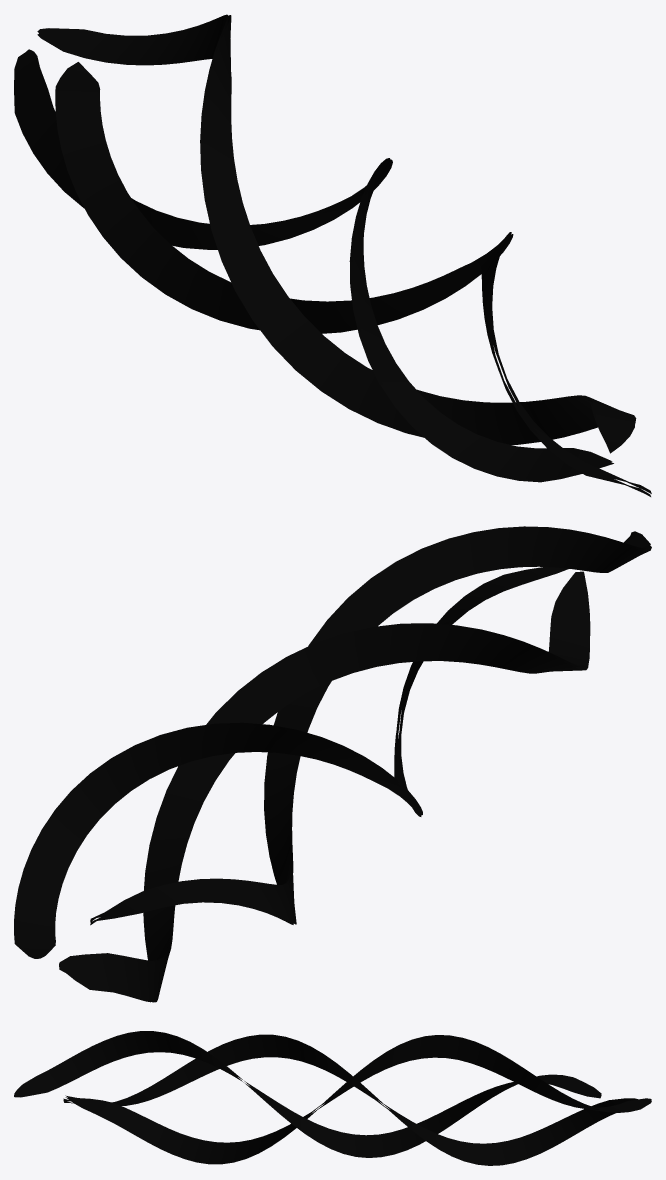
File: VFX_helix.fbx
3 views of the same model, one above another, from view 1: azimuth 30°, elevation 25°; view 2: azimuth 150°, elevation 25°; view 3: azimuth 270°, elevation 25° (orthographic). The views are drawn at different scales.
Visible parts, largest first — view 1: pPlane17; view 2: pPlane17; view 3: pPlane17.
Boxes of the visible parts, x1=… form: pPlane17: x1=14, y1=14, x2=651, y2=496; pPlane17: x1=14, y1=526, x2=651, y2=1002; pPlane17: x1=14, y1=1031, x2=651, y2=1165.
Bounding box in the file's own units: 27.25 × 29.71 × 141.
